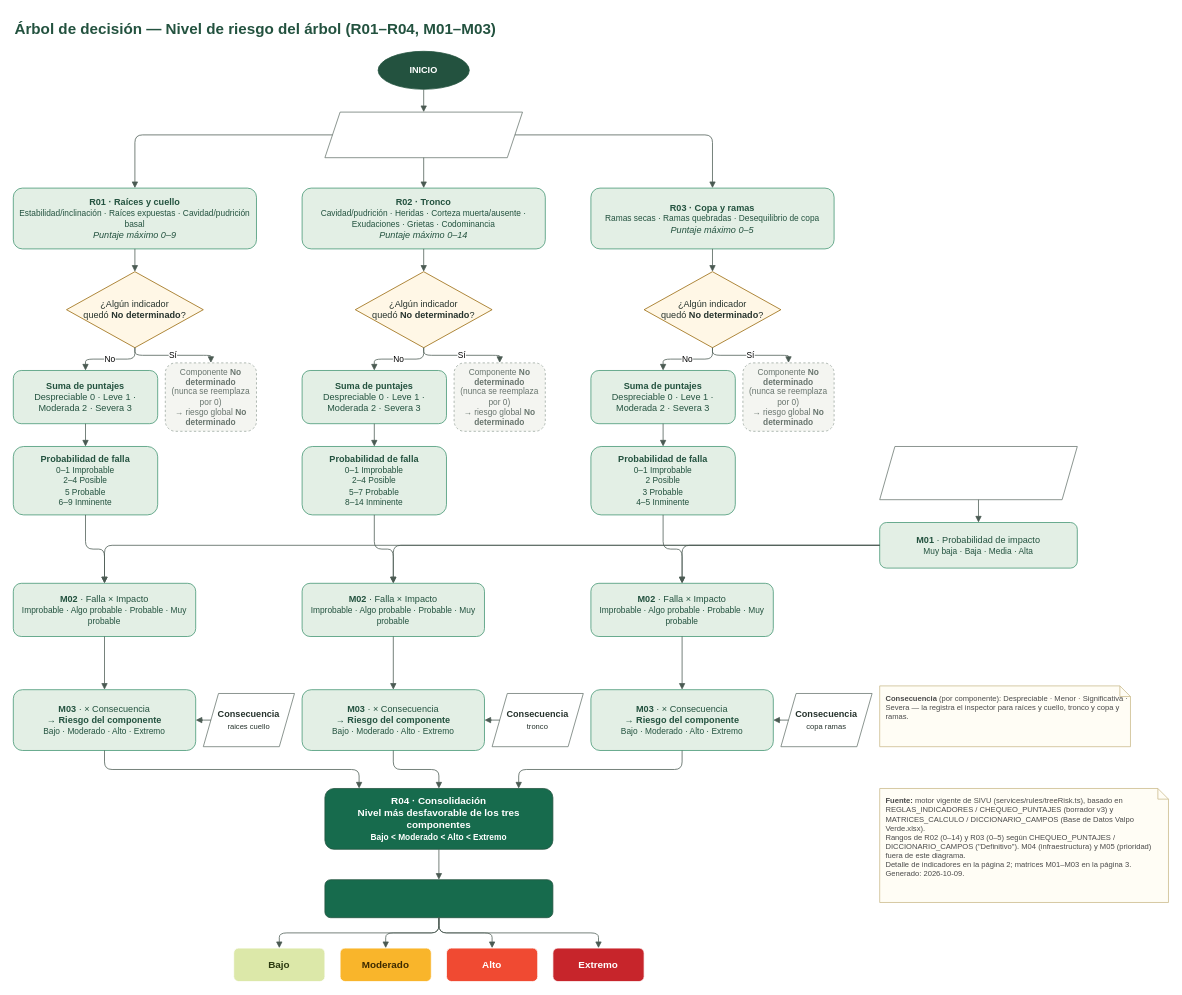
Image size: 1182x995. Some labels were removed from this diagram. Each missing label, with the centre of its shape:
"Evaluación técnica del árbol Variables observadas en terreno por componente" goes at (x=423, y=134).
"NIVEL DE RIESGO DEL ÁRBOL" goes at (x=438, y=898).
"Objetivo / blanco Zona objetivo + Tasa de ocupación" goes at (x=978, y=473).
